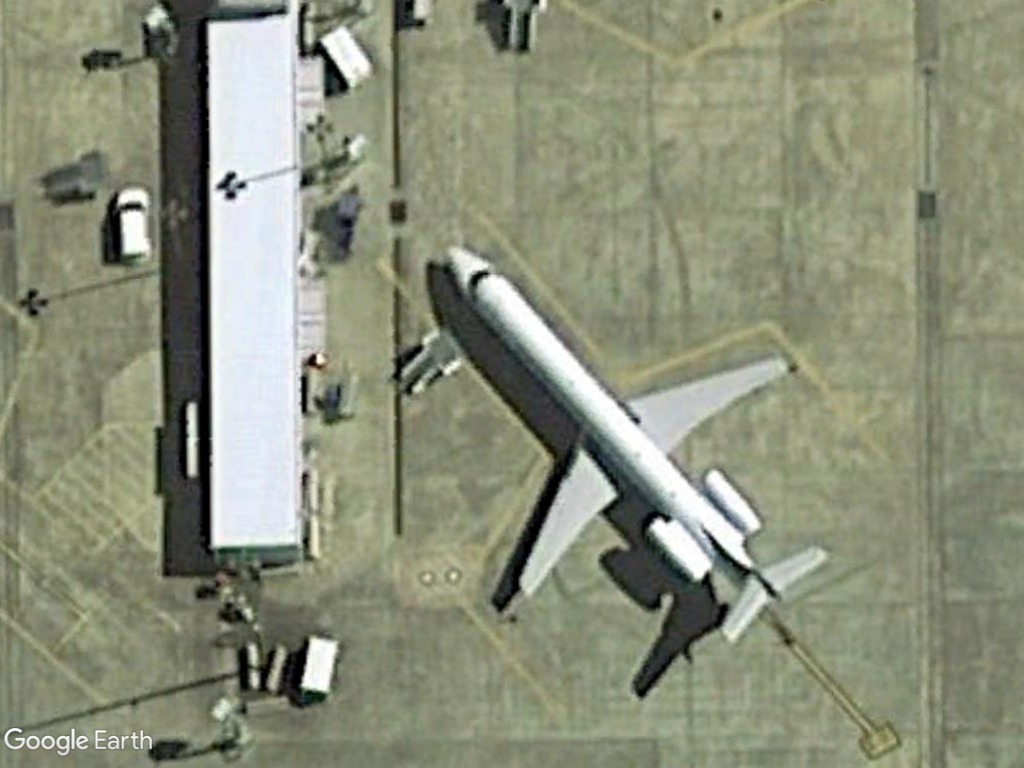car: (112, 184, 157, 269)
chartered: (434, 240, 832, 650)
